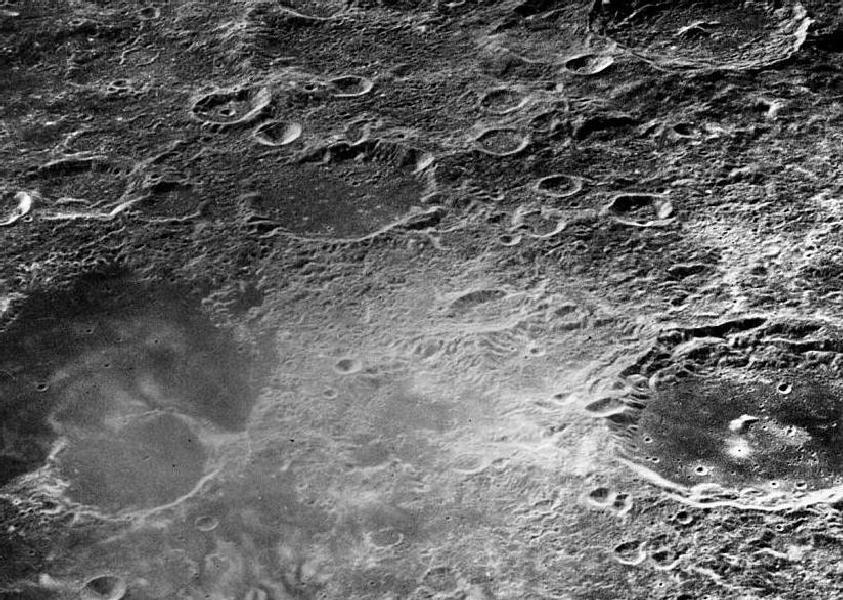crater: (432, 274, 547, 349), (601, 180, 692, 241), (177, 75, 272, 128), (463, 118, 533, 167), (346, 518, 418, 556), (247, 117, 310, 154), (528, 171, 597, 202), (185, 504, 246, 539), (323, 346, 372, 374)
